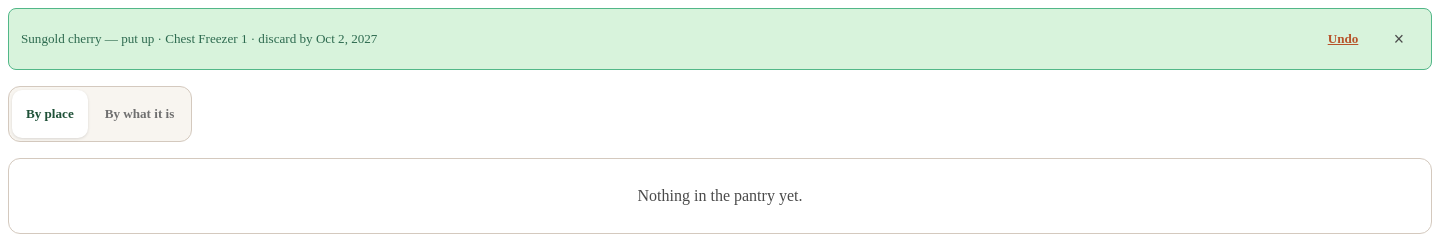
Scenario: the completion line and the page's reload › on the Pantry: the line the door left holds the reload, and closing it lets go
Click the button with test id "pantry-completion-close": (1399, 39) [1375, 15, 1423, 63]
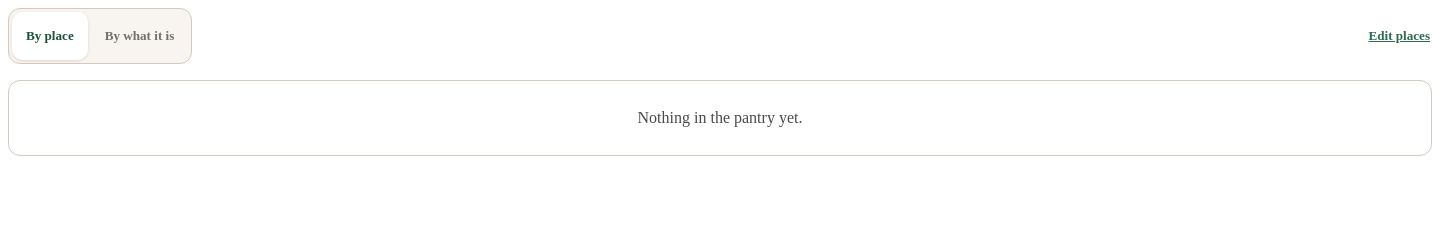
Now the message with test id "pantry-completion" is gone
